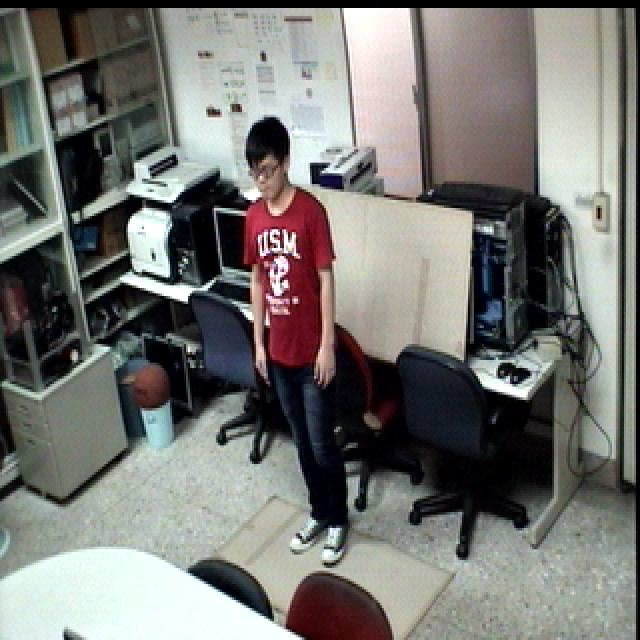stand: (225, 106, 376, 572)
